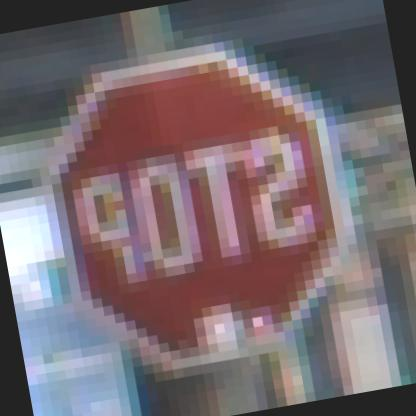stop: (13, 22, 398, 388)
